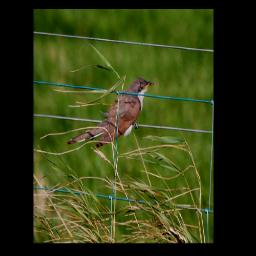Cuckoo: (65, 74, 155, 156)
